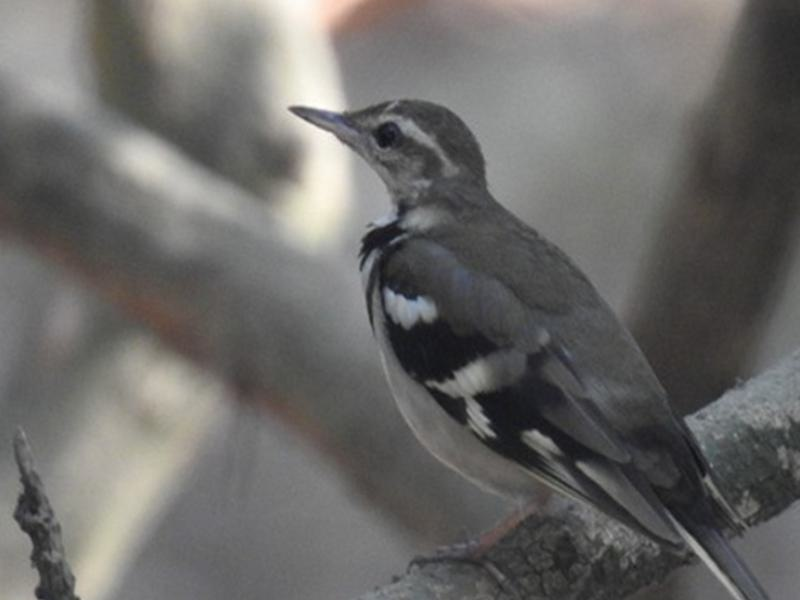wagtail: (321, 90, 720, 533)
